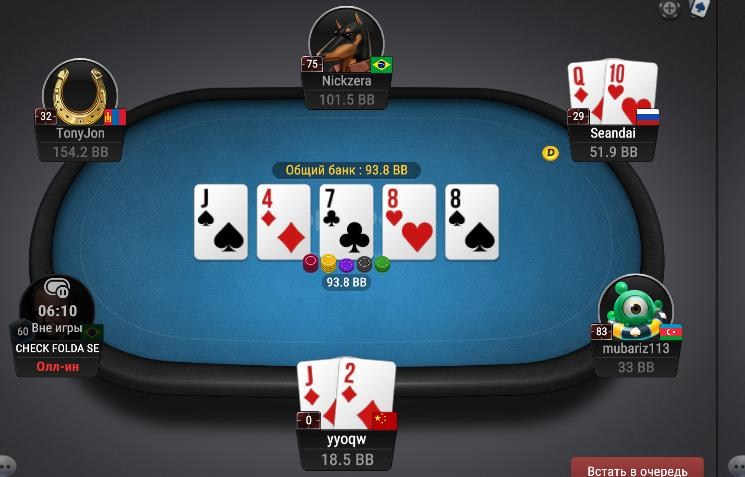10h: (603, 57, 658, 127)
2d: (338, 358, 395, 430)
4d: (258, 184, 310, 258)
7c: (320, 185, 373, 258)
8h: (383, 184, 436, 260)
8s: (446, 185, 499, 260)
Jd: (296, 360, 340, 430)
Js: (195, 185, 248, 260)
Qd: (565, 61, 606, 126)
